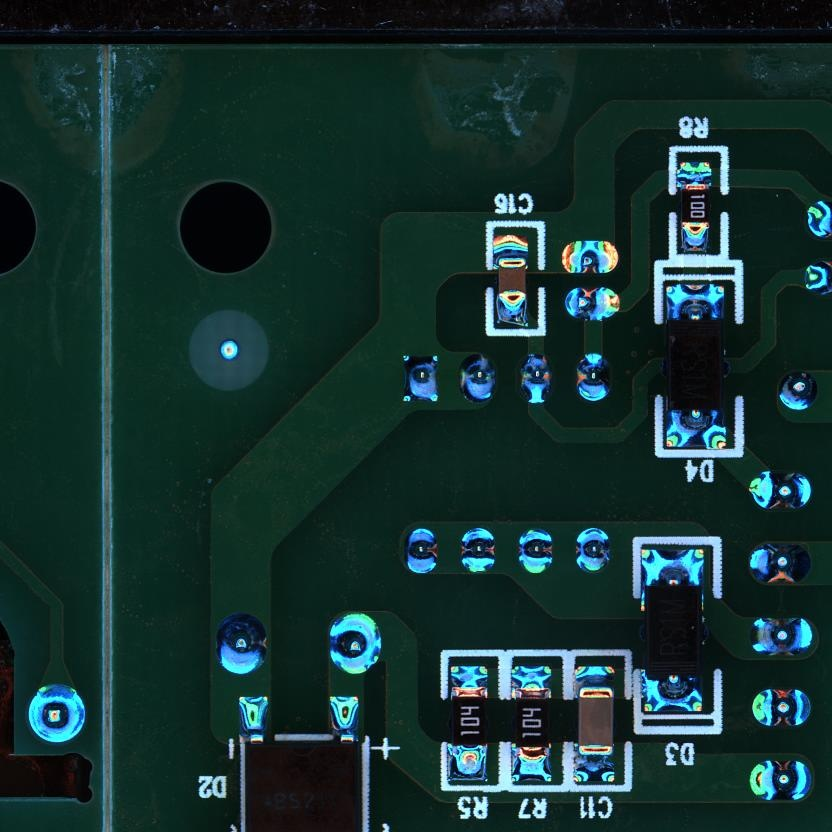spot: (25, 682, 87, 745), (328, 613, 383, 676), (215, 612, 269, 675), (749, 758, 816, 803), (747, 542, 814, 586), (746, 468, 813, 510), (750, 614, 813, 657), (751, 687, 813, 728), (515, 351, 554, 405), (564, 286, 622, 322), (401, 352, 440, 405), (456, 354, 497, 404), (516, 526, 556, 577), (575, 350, 613, 403), (561, 238, 618, 273), (402, 526, 440, 577), (775, 369, 818, 414), (458, 525, 495, 576), (573, 527, 611, 575)
